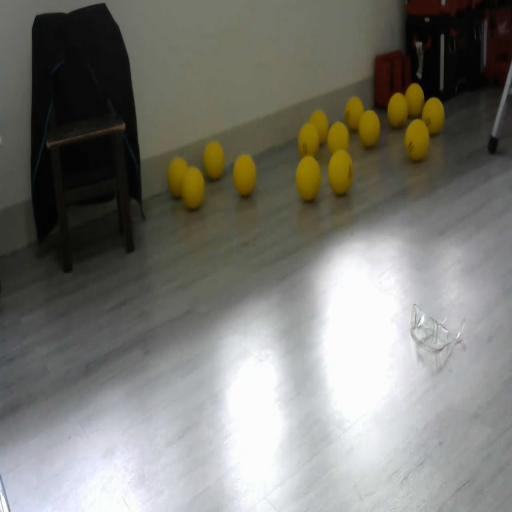FUEL: (327, 148, 354, 195), (295, 155, 322, 201), (404, 119, 430, 161), (233, 154, 257, 197), (421, 97, 445, 135), (326, 120, 350, 156), (203, 141, 225, 180), (168, 156, 188, 198), (358, 109, 380, 147), (387, 92, 408, 128), (309, 109, 329, 145), (404, 82, 424, 118), (345, 96, 364, 130)
